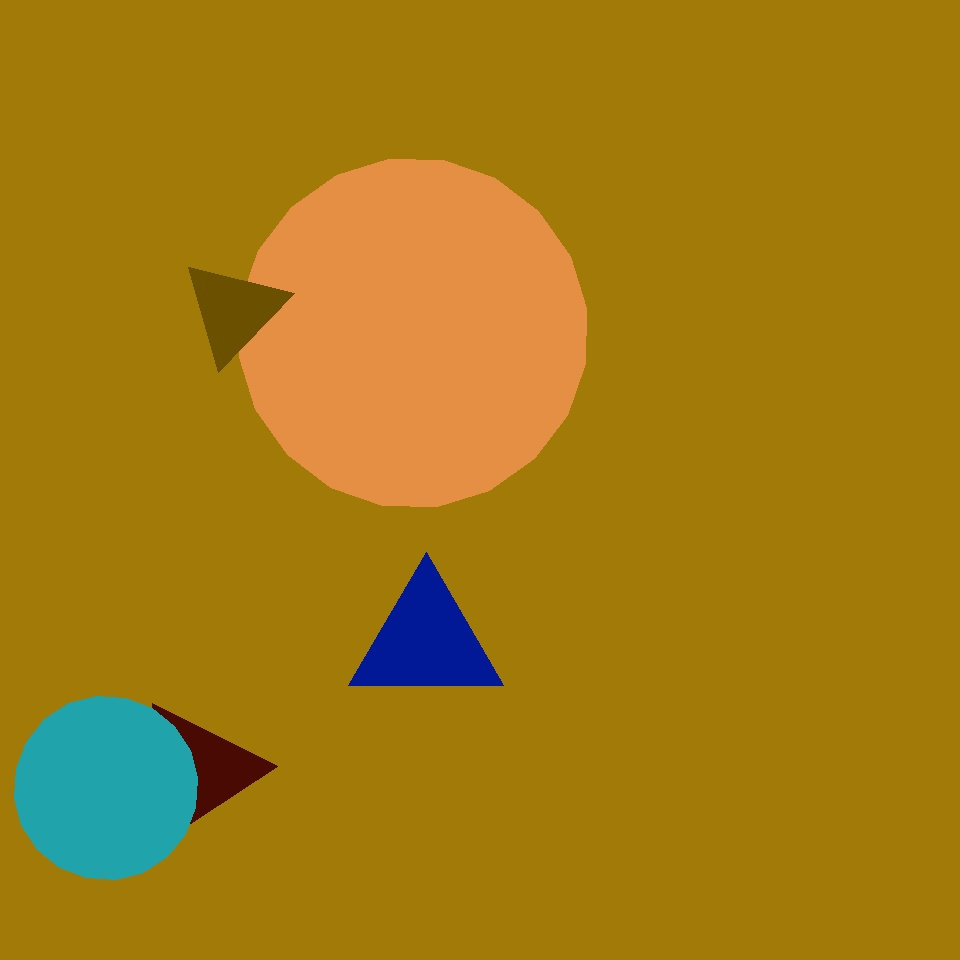circle: (472, 342, 726, 603), (447, 89, 616, 283), (589, 120, 739, 291), (348, 574, 503, 708), (134, 701, 260, 841), (181, 258, 287, 364)
square: (95, 97, 204, 206)
triangle: (460, 364, 834, 738), (240, 160, 586, 506), (237, 26, 504, 293), (15, 696, 198, 880)
